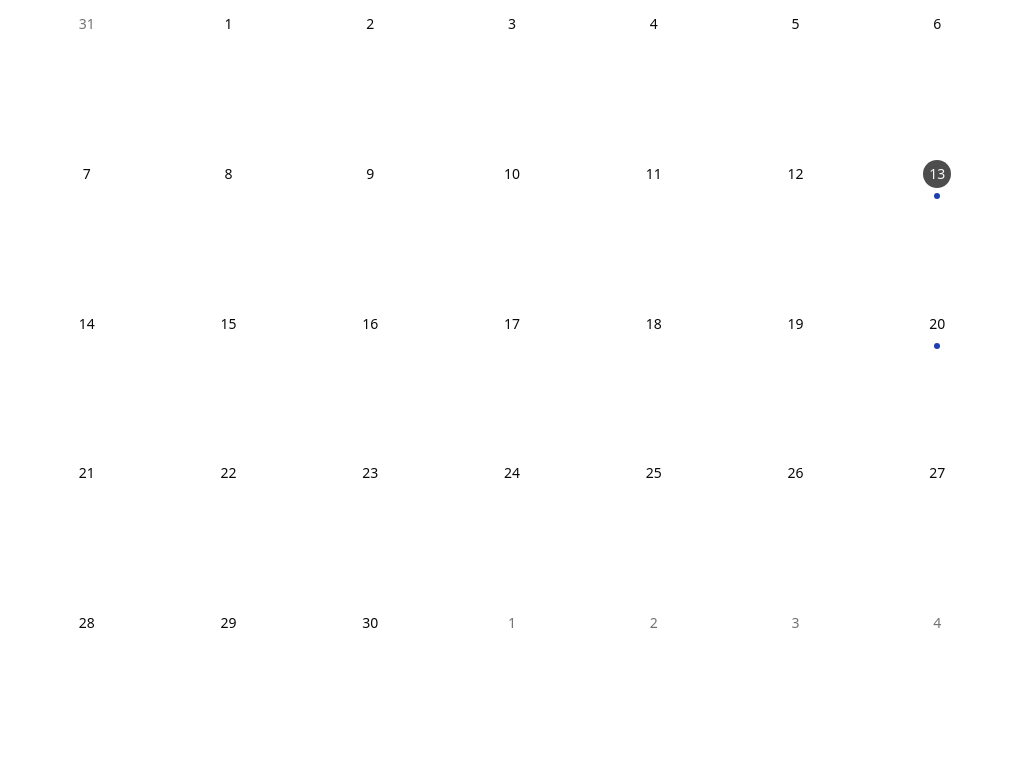
Test: HomeScreen (S10.2) — day selection (AC3) › shows a tapped day’s events beneath the calendar
(page scrolled)
expect the text "On the twentieth" is not shown: met
Click the button "20". click: (937, 375)
box: left=866, top=304, right=1008, bottom=445
(page scrolled)
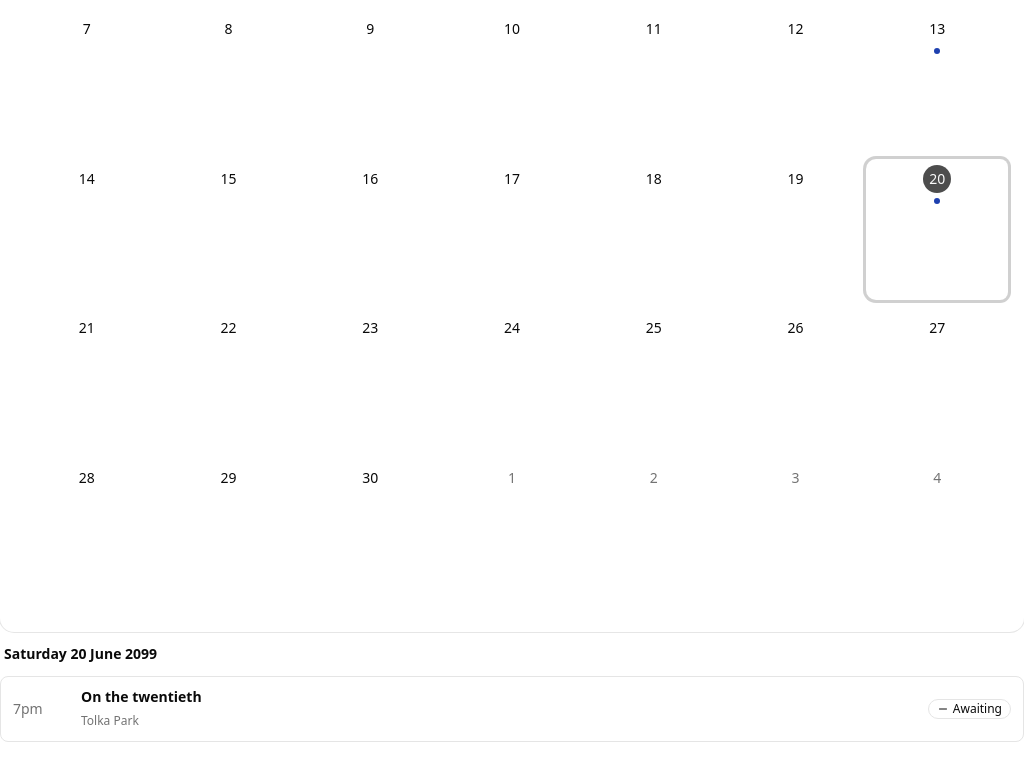
expect the heading "On the twentieth" is shown: met, box left=81, top=687, right=202, bottom=707
